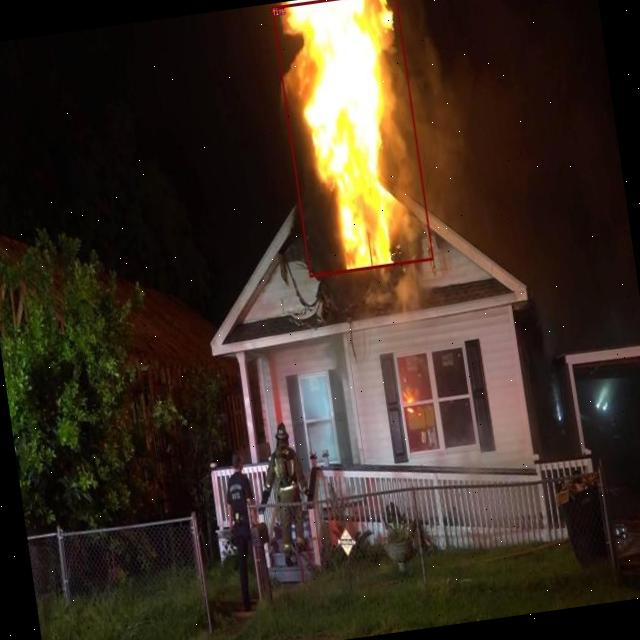fire: (272, 0, 434, 277)
